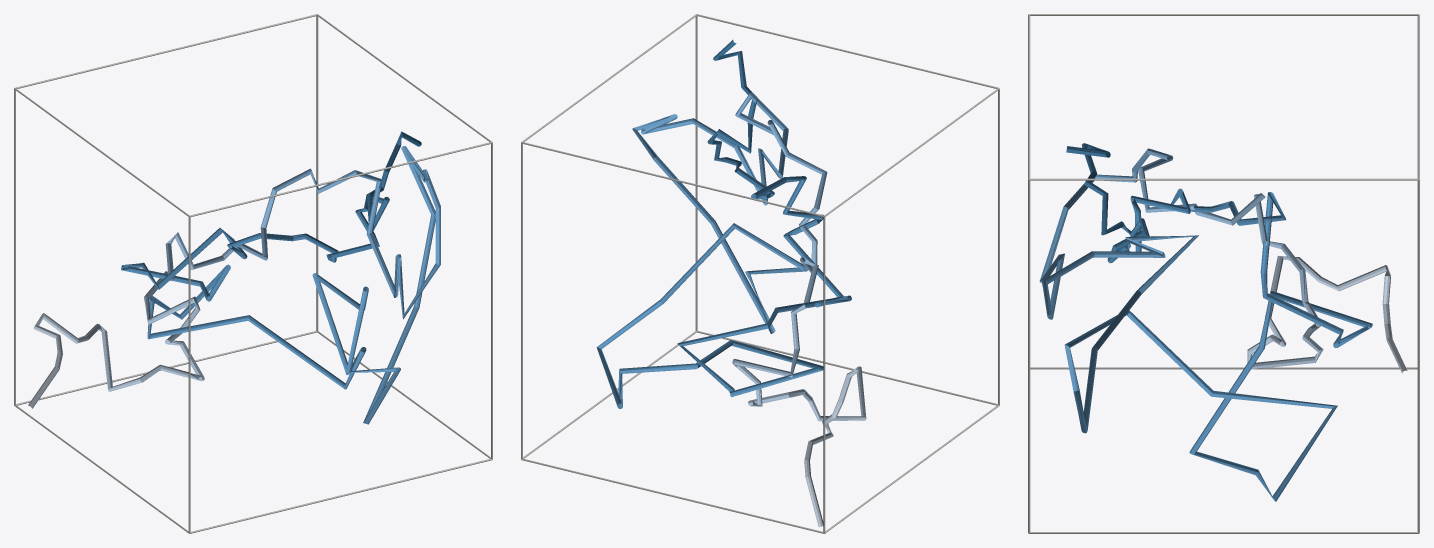
The model's file is BT17_calm.glb.
3 renders of one model, left to right at view 1: azimuth 30°, elevation 25°; view 2: azimuth 150°, elevation 25°; view 3: azimuth 270°, elevation 25°, orthographic. The views are drawn at different scales.
Parts seen in each view (by area): view 1: geometry_0, geometry_1; view 2: geometry_0, geometry_1; view 3: geometry_0, geometry_1.
Boxes of the visible parts, x1,y1,x2,y2 form: geometry_0: [28, 131, 440, 424]; geometry_1: [14, 14, 492, 533]; geometry_0: [596, 40, 866, 526]; geometry_1: [521, 14, 999, 533]; geometry_0: [1039, 143, 1407, 501]; geometry_1: [1028, 14, 1419, 533].
Size of the model in its own units: 0.3016 by 0.3036 by 0.3016.
